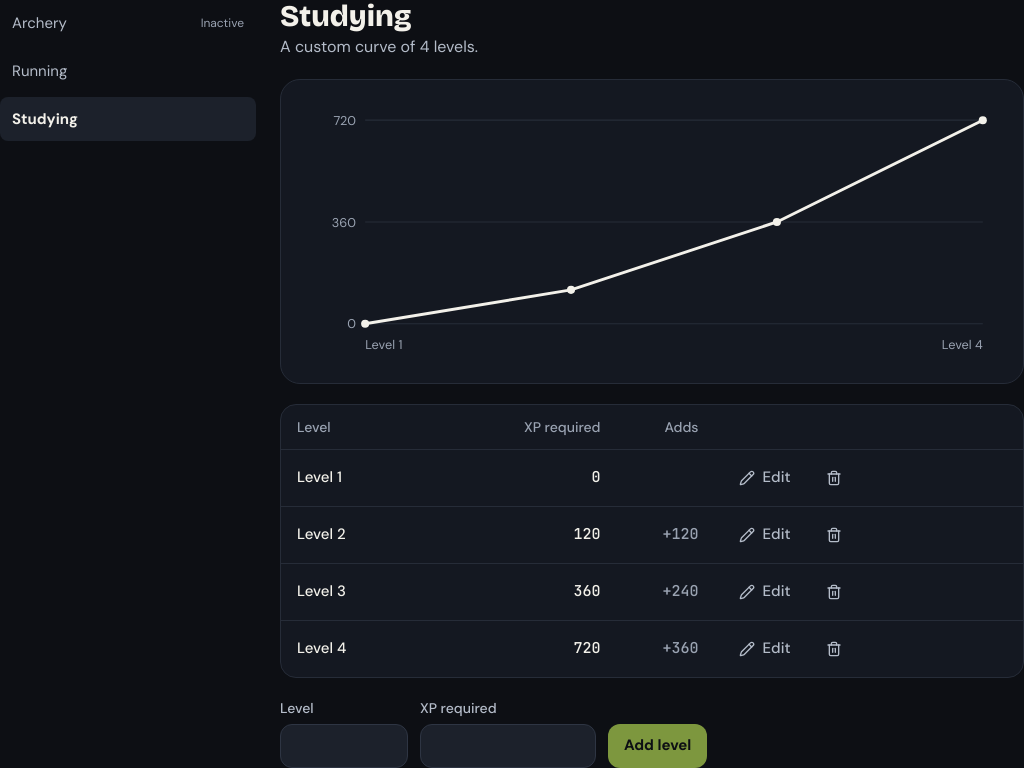
Test: Leveling rules — adding a level › asks before it saves, and saves only when confirmed
(page scrolled)
Expected: the text "A custom curve of 4 levels." is shown, [280,36,478,57]
Step 1. Type "5" into the number field labelled "Level" → x=344, y=746, box [280,724,408,767]
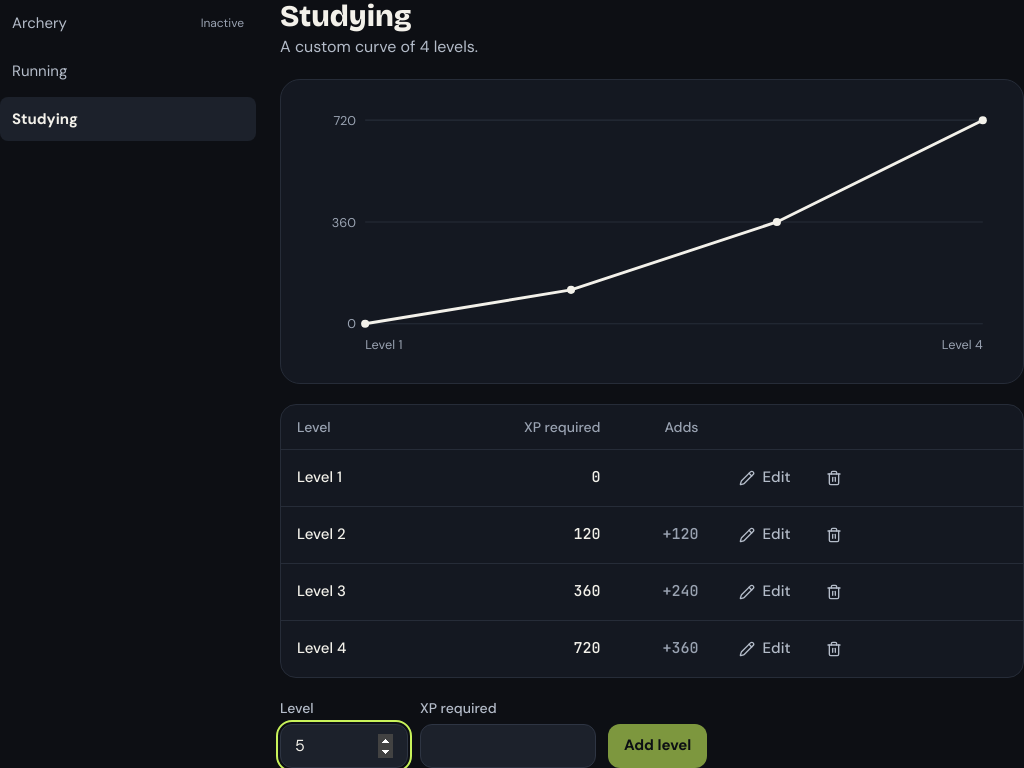
Step 2. Type "1500" into the number field labelled "XP required" → x=508, y=746, box [420,724,596,767]
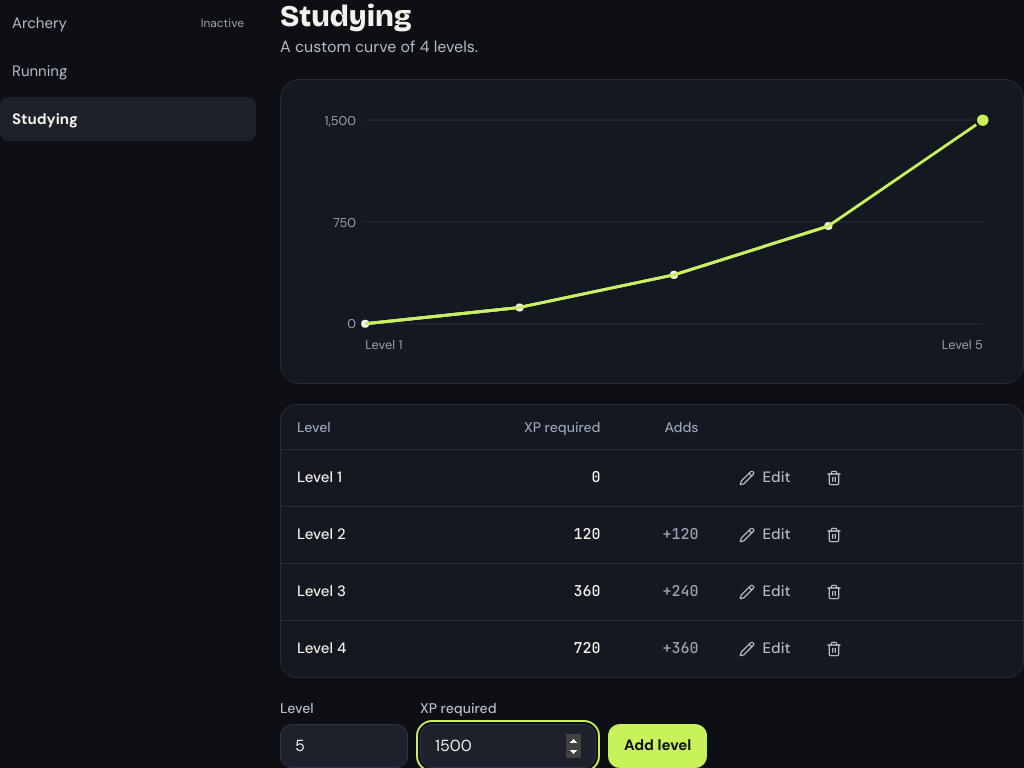
Step 3. Click the button "Add level" → x=658, y=746, box [608,724,707,767]
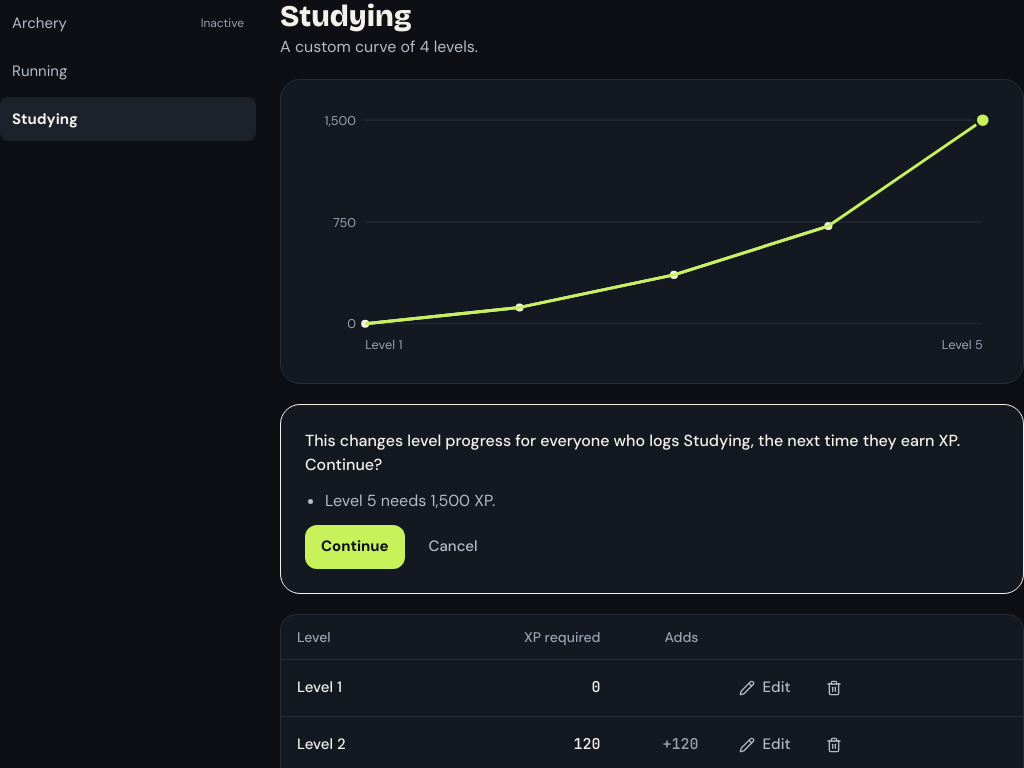
Expected: the dialog named "Confirm the change" shows "This changes level progress for everyone who logs Studying, the next time they earn XP. Continue?", [280,404,1023,594]
Expected: the list item "Level 5 needs 1,500 XP." is shown, [325,490,495,511]
Step 4. Click the button "Continue" → x=355, y=547, box [305,525,405,569]
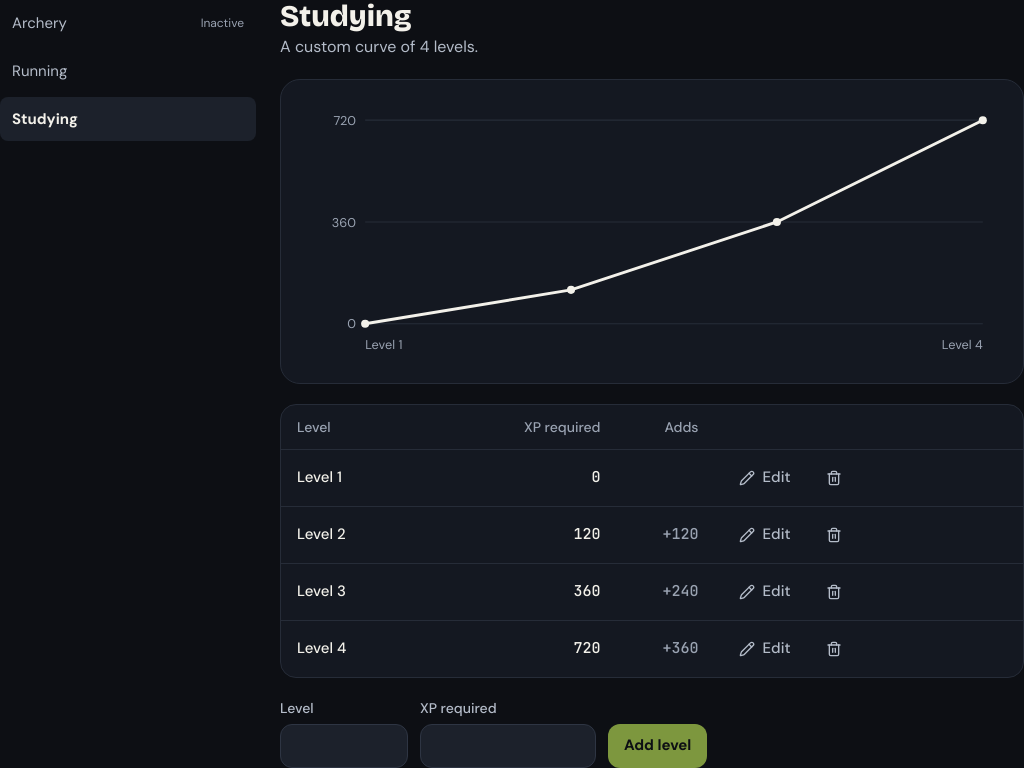
Expected: the dialog is gone
